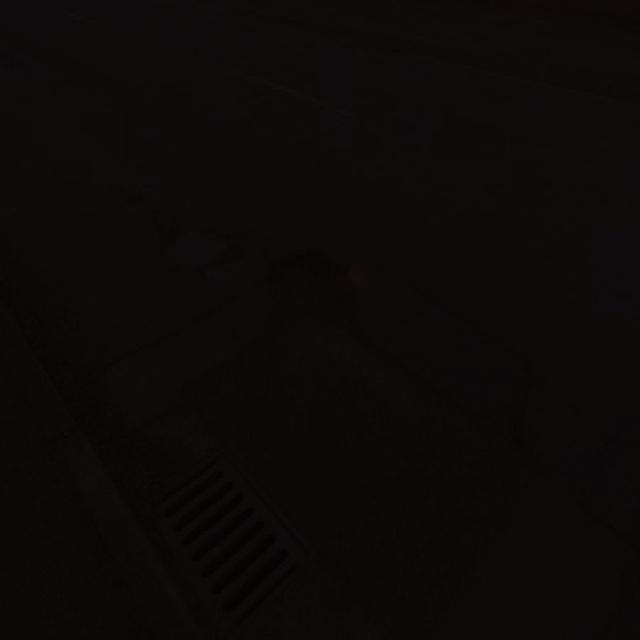Pothole: (250, 237, 396, 344), (148, 219, 234, 282)
